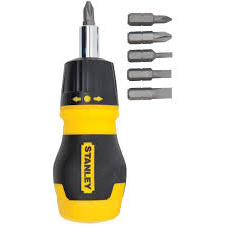Screwdriver: (50, 2, 129, 223)
